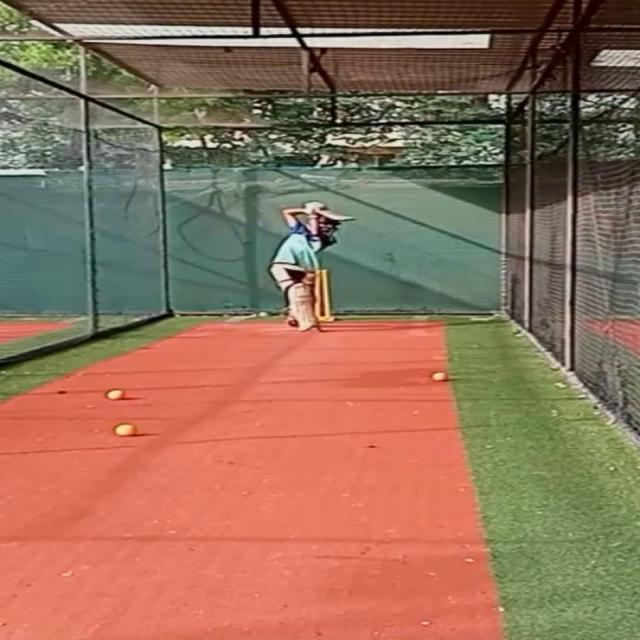ball: (114, 423, 144, 436), (106, 386, 132, 399), (430, 367, 454, 381)
stump: (314, 267, 335, 322)
